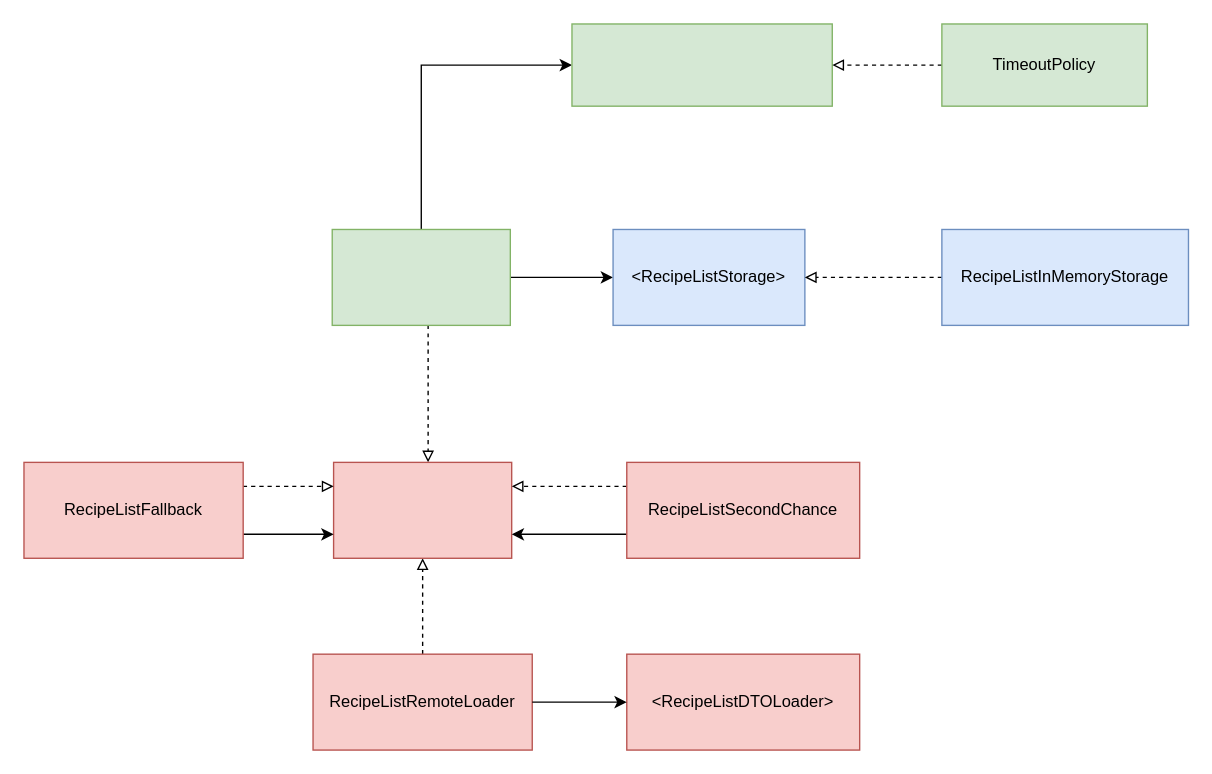
Image size: 1212x774. Some labels were removed from this diagram. The box of each missing label's shape, as (x1, y1, x2, y2) in pixels:
<RecipeListLoader>: (332, 461, 512, 558)
<TimestampValidationPolicy>: (571, 23, 832, 106)
RecipeListCache: (331, 228, 510, 325)
